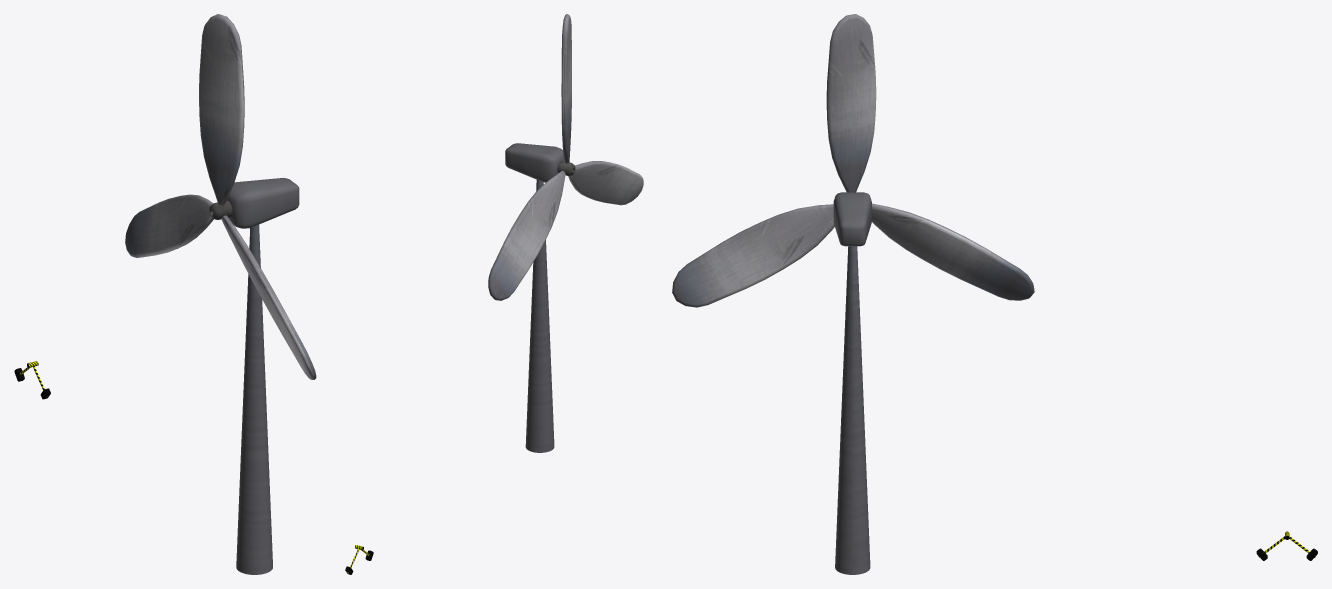
The model's file is TracksFixDemo.fbx.
3 renders of one model, left to right at view 1: azimuth 30°, elevation 25°; view 2: azimuth 150°, elevation 25°; view 3: azimuth 270°, elevation 25°, orthographic. The views are drawn at different scales.
Parts seen in each view (by area): view 1: BladesWindmill_Large, hullWindmill_Large, hullWindmill_Large_001; view 2: BladesWindmill_Large, hullWindmill_Large, hullWindmill_Large_001; view 3: BladesWindmill_Large, hullWindmill_Large, hullWindmill_Large_001.
Part boxes in pixels (box(x1,y1,x2,y2)): BladesWindmill_Large: box(125, 14, 316, 379); hullWindmill_Large: box(236, 224, 272, 574); hullWindmill_Large_001: box(227, 178, 299, 228); BladesWindmill_Large: box(488, 14, 643, 300); hullWindmill_Large: box(525, 180, 554, 452); hullWindmill_Large_001: box(505, 143, 563, 182); BladesWindmill_Large: box(672, 14, 1034, 307); hullWindmill_Large: box(835, 246, 870, 574); hullWindmill_Large_001: box(833, 192, 871, 246).
Size of the model in its own units: 3235 by 20458 by 22296.
2 materials, 2 textured.
